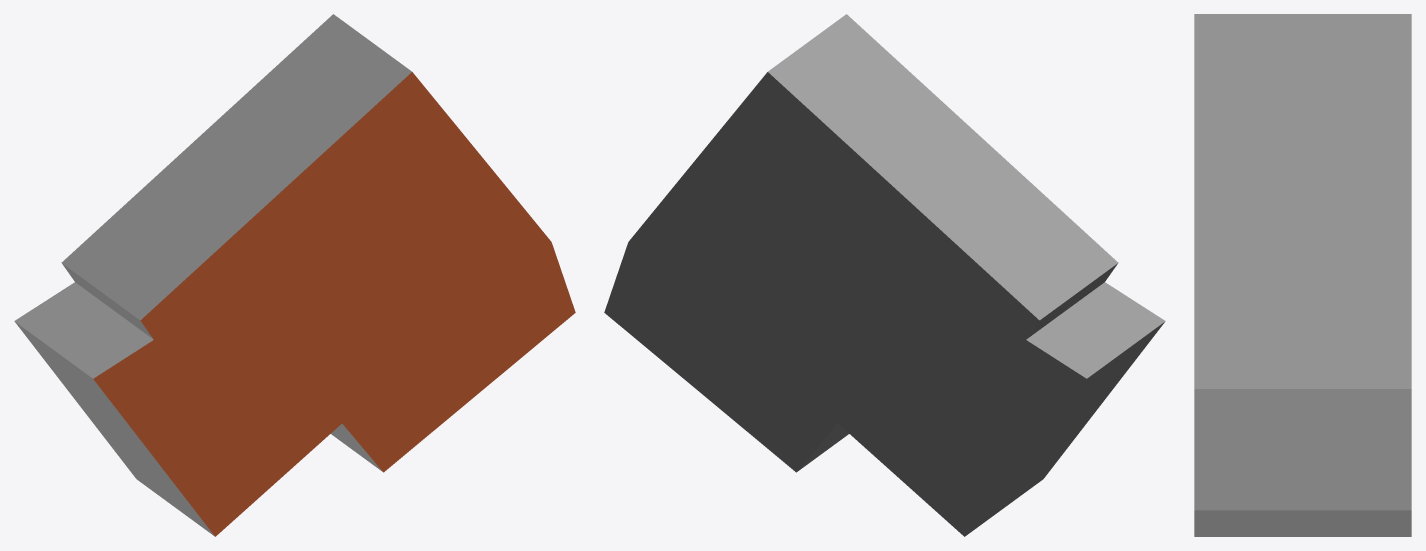
Rendered from construction_3804_assumed_A_Casa_h6m.obj.
3 renders of one model, left to right at view 1: azimuth 30°, elevation 25°; view 2: azimuth 150°, elevation 25°; view 3: azimuth 270°, elevation 25°, orthographic. The views are drawn at different scales.
Visible parts, largest first — view 1: construction_3804_assumed_A_Casa; view 2: construction_3804_assumed_A_Casa; view 3: construction_3804_assumed_A_Casa.
Part boxes in pixels (<box>): construction_3804_assumed_A_Casa: <box>14,14,575,536</box>; construction_3804_assumed_A_Casa: <box>604,14,1165,536</box>; construction_3804_assumed_A_Casa: <box>1194,14,1411,536</box>.
Bounding box in the file's own units: 21.18 × 17.5 × 6.
